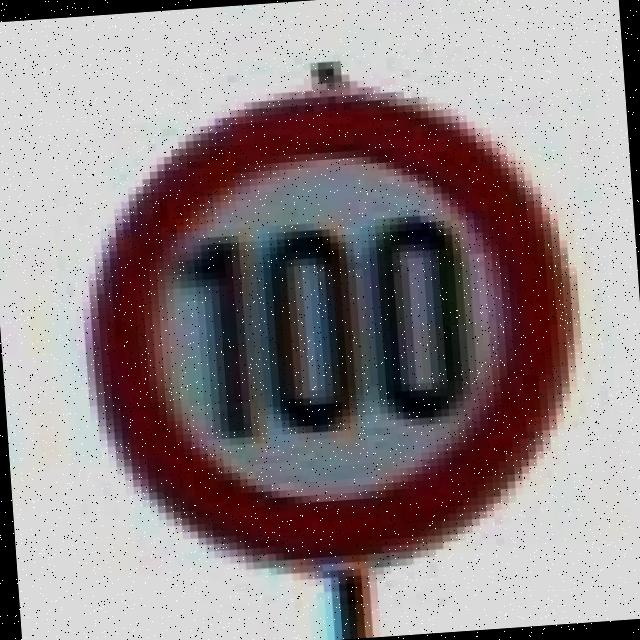Ograniczenie predkosci do 100: (43, 44, 604, 602)
